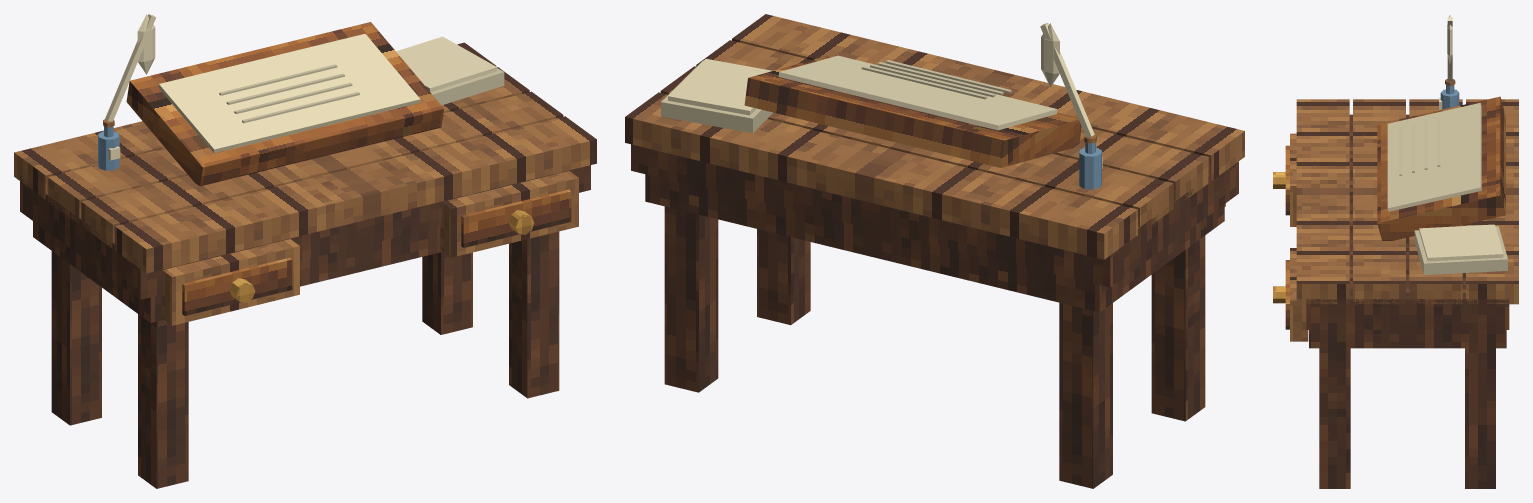
3 renders of one model, left to right at view 1: azimuth 30°, elevation 25°; view 2: azimuth 150°, elevation 25°; view 3: azimuth 270°, elevation 25°, orthographic. The views are drawn at different scales.
Visible parts, largest first — view 1: body_wood_dark, body_oak_light, body_oak, body_wood, body_cream, body_linen, body_brass, body_glass_blue; view 2: body_wood_dark, body_oak_light, body_oak, body_wood, body_cream, body_linen, body_glass_blue; view 3: body_wood_dark, body_oak_light, body_oak, body_cream, body_wood, body_linen, body_brass, body_glass_blue.
Part boxes in pixels (<box>): body_wood_dark: <box>20,165,590,488</box>; body_oak_light: <box>14,42,596,273</box>; body_oak: <box>47,67,578,325</box>; body_wood: <box>126,22,571,315</box>; body_cream: <box>105,14,496,160</box>; body_linen: <box>219,64,504,123</box>; body_brass: <box>229,210,534,302</box>; body_glass_blue: <box>98,126,119,170</box>; body_wood_dark: <box>631,144,1238,488</box>; body_oak_light: <box>625,14,1244,259</box>; body_oak: <box>660,40,1225,227</box>; body_wood: <box>744,56,1081,167</box>; body_cream: <box>668,23,1102,168</box>; body_linen: <box>661,60,1011,133</box>; body_glass_blue: <box>1079,142,1101,189</box>; body_wood_dark: <box>1306,114,1509,488</box>; body_oak_light: <box>1296,99,1518,304</box>; body_oak: <box>1290,79,1462,341</box>; body_cream: <box>1387,14,1503,261</box>; body_wood: <box>1285,96,1505,329</box>; body_linen: <box>1399,117,1507,274</box>; body_brass: <box>1273,172,1285,303</box>; body_glass_blue: <box>1440,85,1459,109</box>.
Size of the model in its own units: 1.55 by 1.32 by 0.8715.
8 materials, 5 textured.
